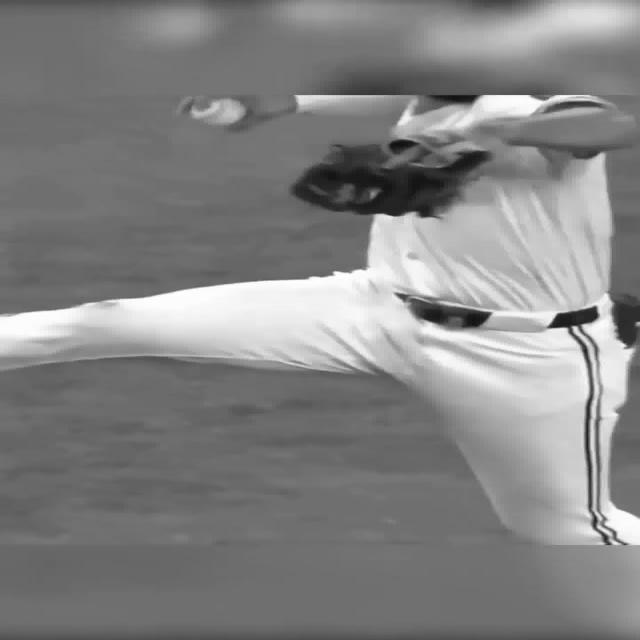baseball: (188, 98, 246, 126)
baseball_glove: (292, 134, 493, 217)
